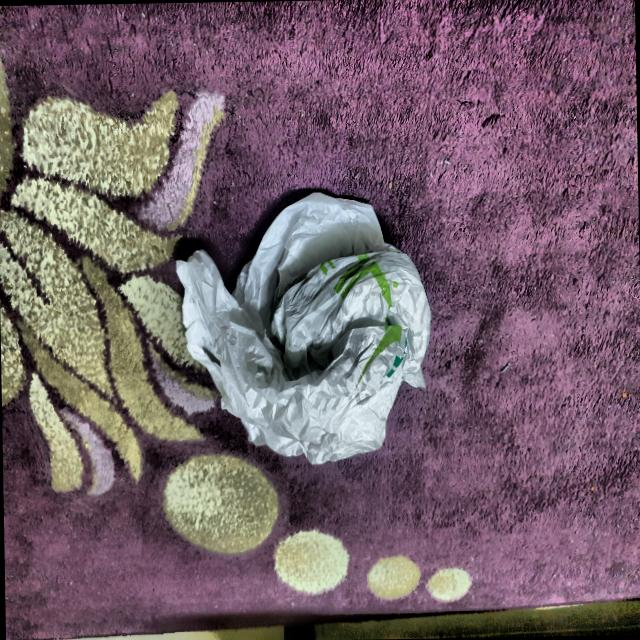plastic bag: (162, 180, 448, 484)
